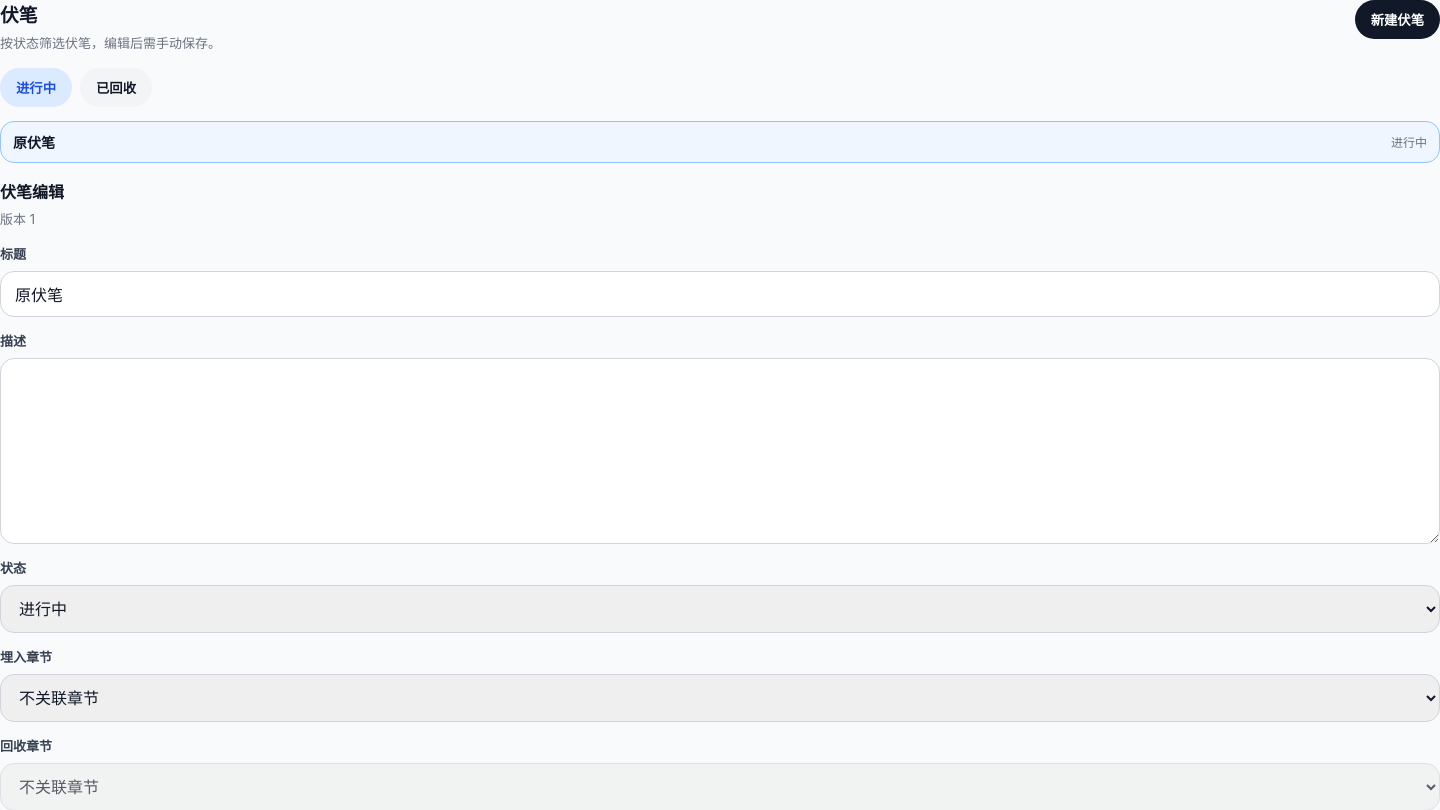
ForeshadowPanel › keeps local draft and opens conflict modal after 409
The width and height of the screenshot is (1440, 810).
Replace the text in the field with test id "foreshadow-title" with "冲突伏笔": (720, 294) top-left (0, 271), bottom-right (1439, 317)
(page scrolled)
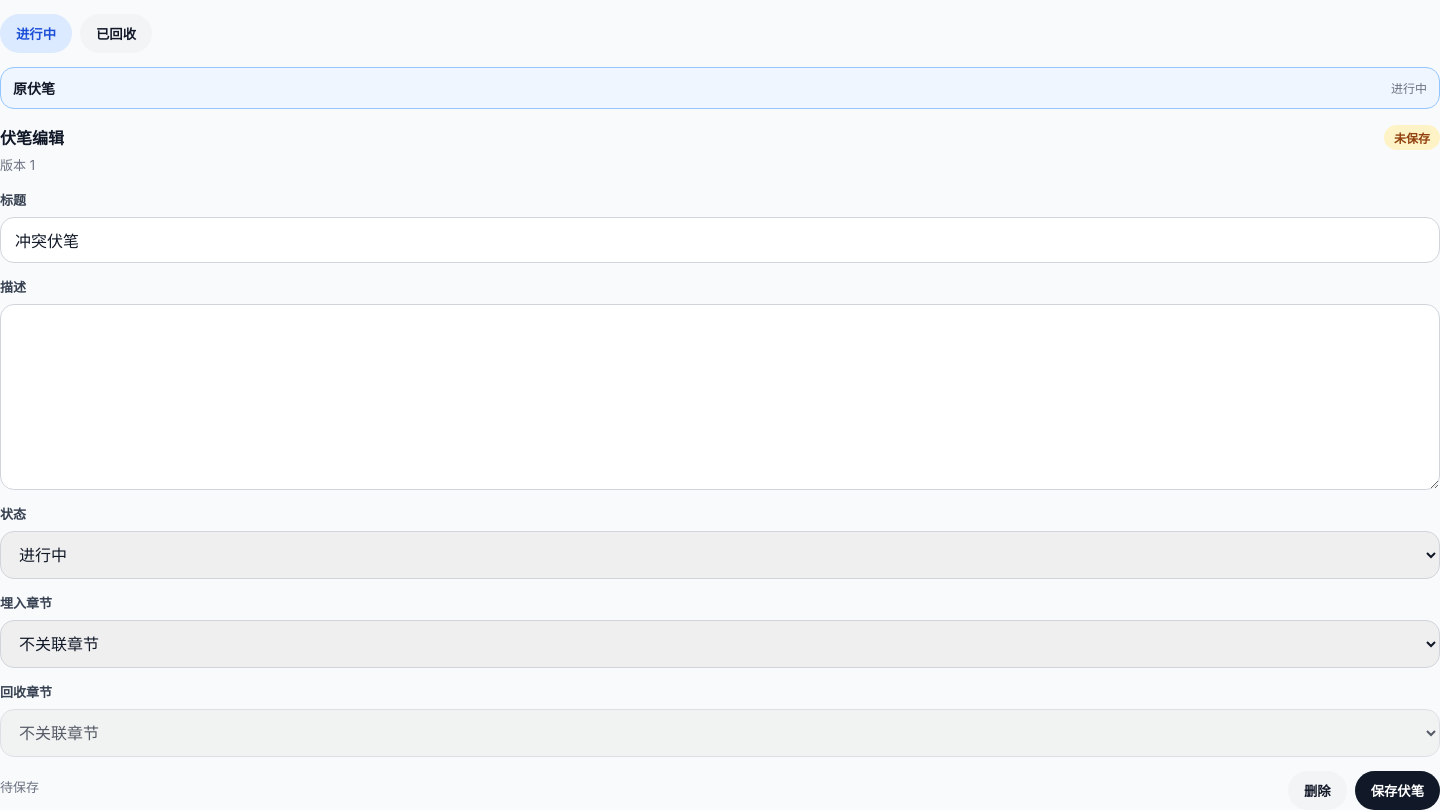
Click the button with class "save-button": (1397, 790) top-left (1355, 771), bottom-right (1439, 809)
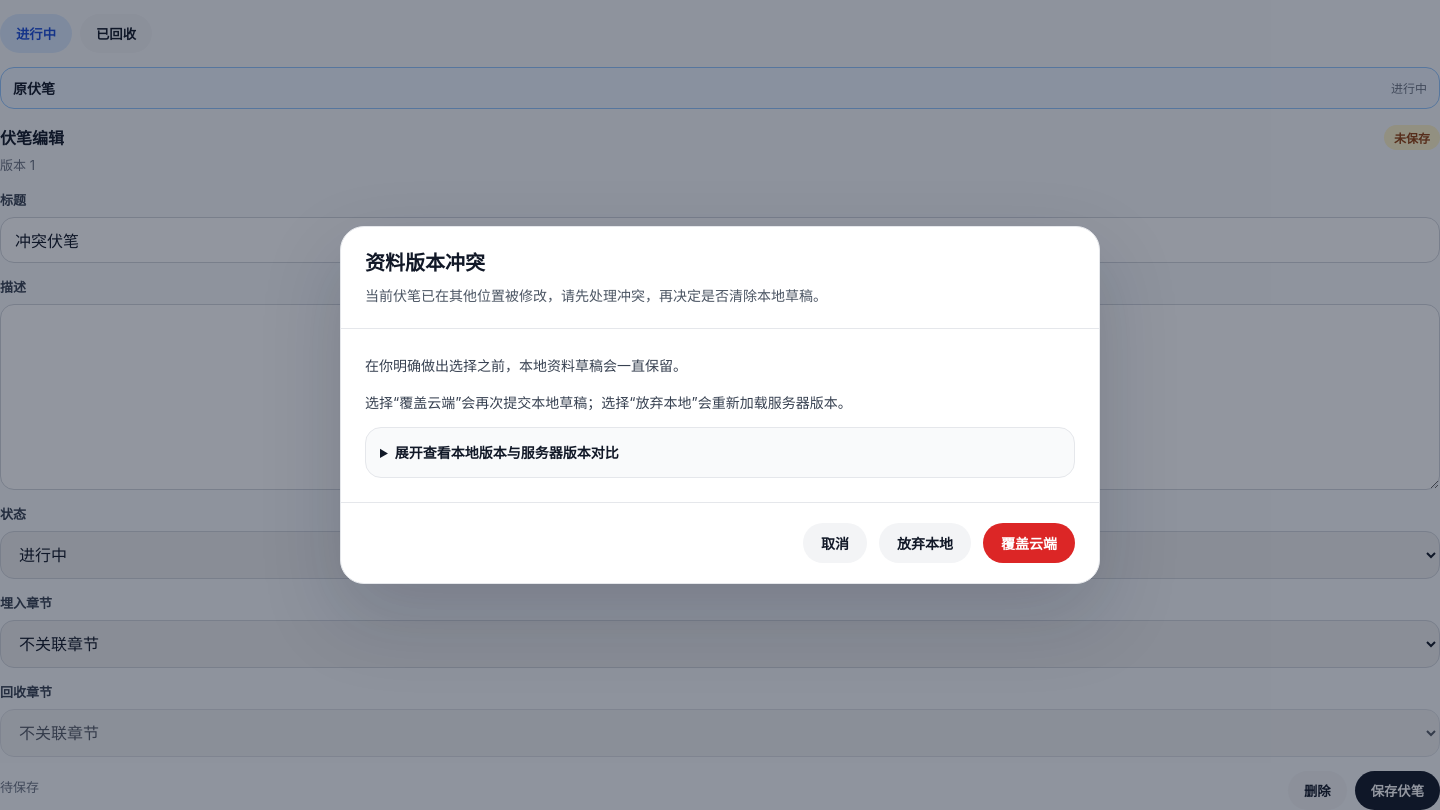
Expected: the element that starts with "资料版本冲突" is shown
Expected: the text "资料版本冲突" is shown, top-left (365, 251), bottom-right (485, 275)
